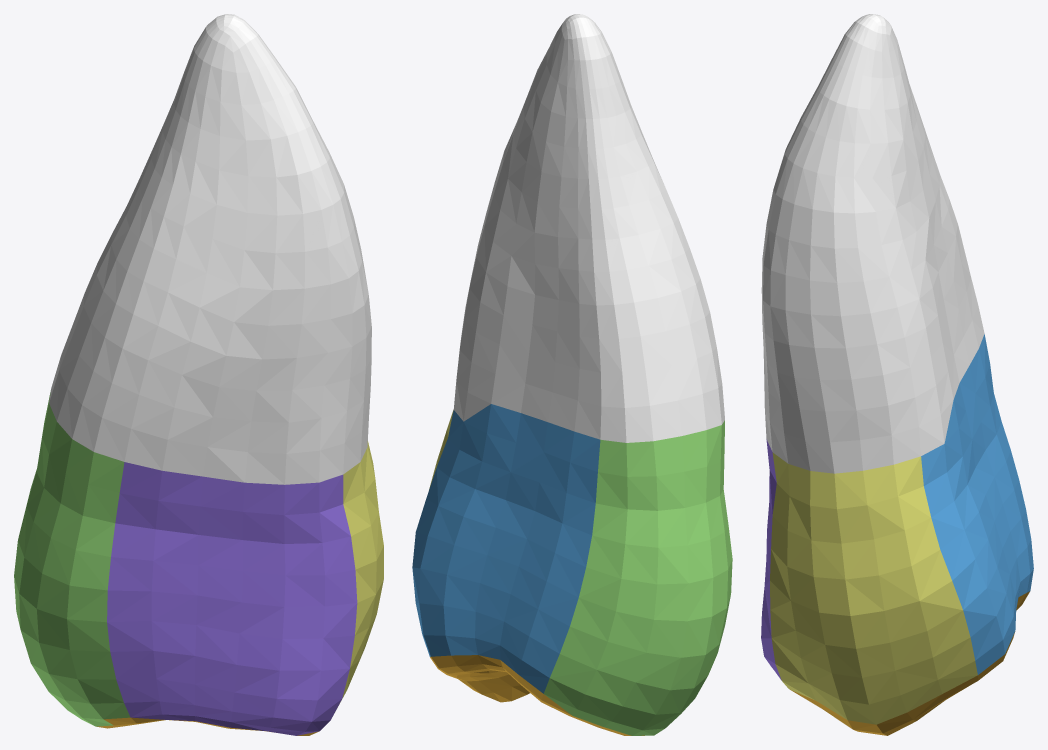
File: tooth_25_annotated.glb
3 views of the same model, side by side, from view 1: azimuth 30°, elevation 25°; view 2: azimuth 150°, elevation 25°; view 3: azimuth 270°, elevation 25° (orthographic). The views are drawn at different scales.
Visible parts, largest first — view 1: FDI_25; view 2: FDI_25; view 3: FDI_25.
Part boxes in pixels (box(x1,y1,x2,y2)): FDI_25: box(14, 14, 383, 735); FDI_25: box(412, 14, 732, 735); FDI_25: box(761, 14, 1033, 735).
Bounding box in the file's own units: 0.00821 × 0.0181 × 0.00654.
